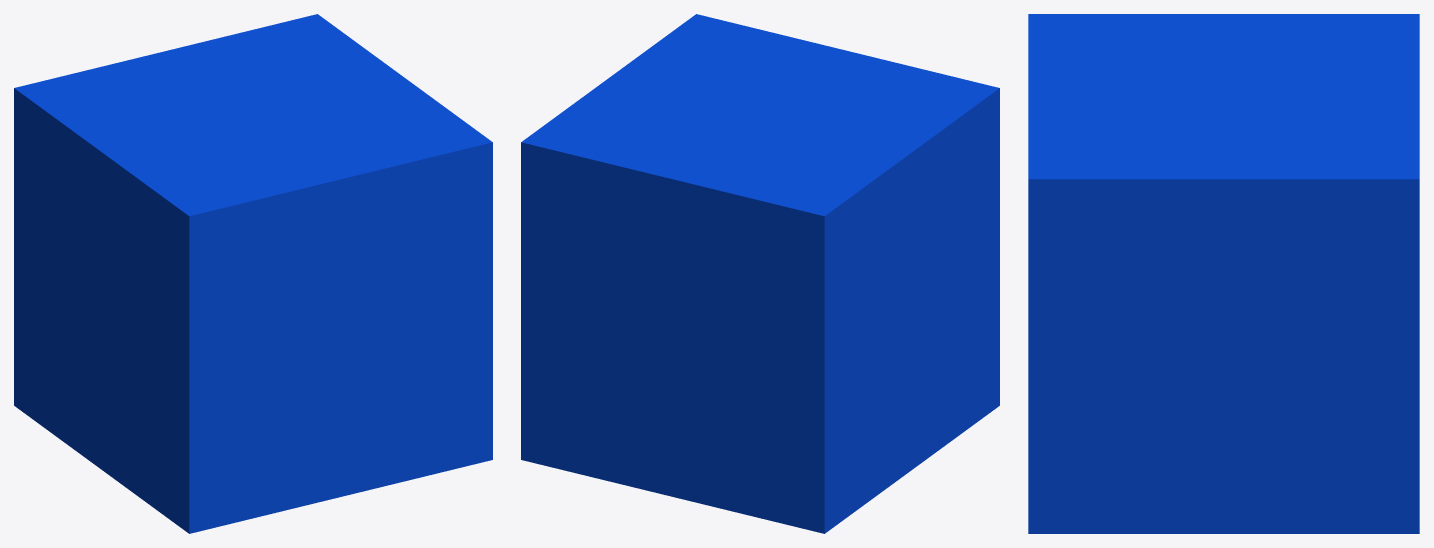
3 views of the same model, side by side, from view 1: azimuth 30°, elevation 25°; view 2: azimuth 150°, elevation 25°; view 3: azimuth 270°, elevation 25° (orthographic). The views are drawn at different scales.
Visible parts, largest first — view 1: Cube; view 2: Cube; view 3: Cube.
Boxes of the visible parts, x1,y1,x2,y2 form: Cube: [14, 14, 492, 533]; Cube: [521, 14, 999, 533]; Cube: [1028, 14, 1419, 533].
Size of the model in its own units: 2000 by 2000 by 2000.
